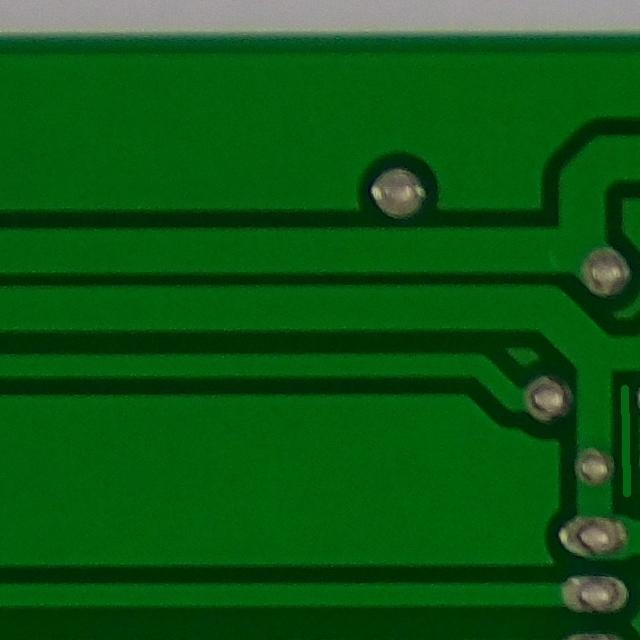spurious_copper: (605, 370, 640, 504)
